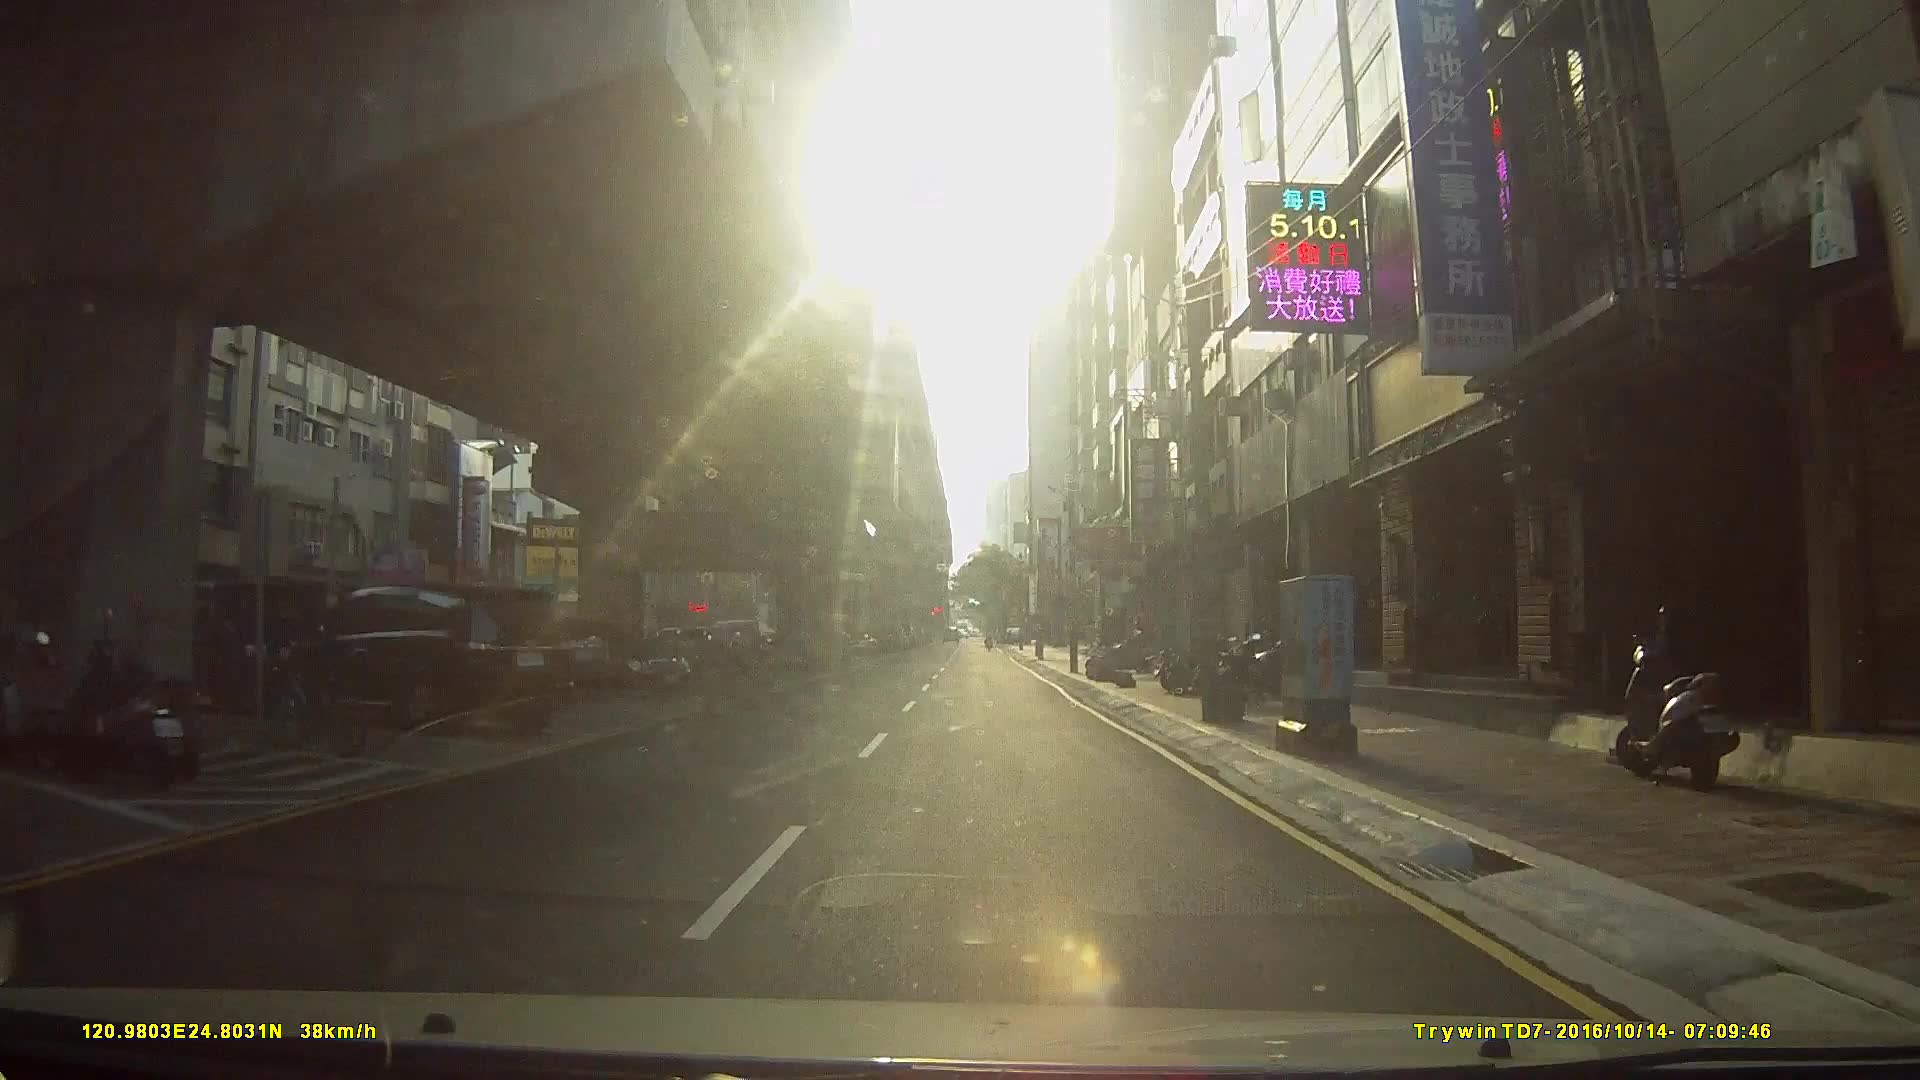vehicle: (265, 578, 570, 732), (124, 574, 320, 705), (560, 620, 688, 694)
